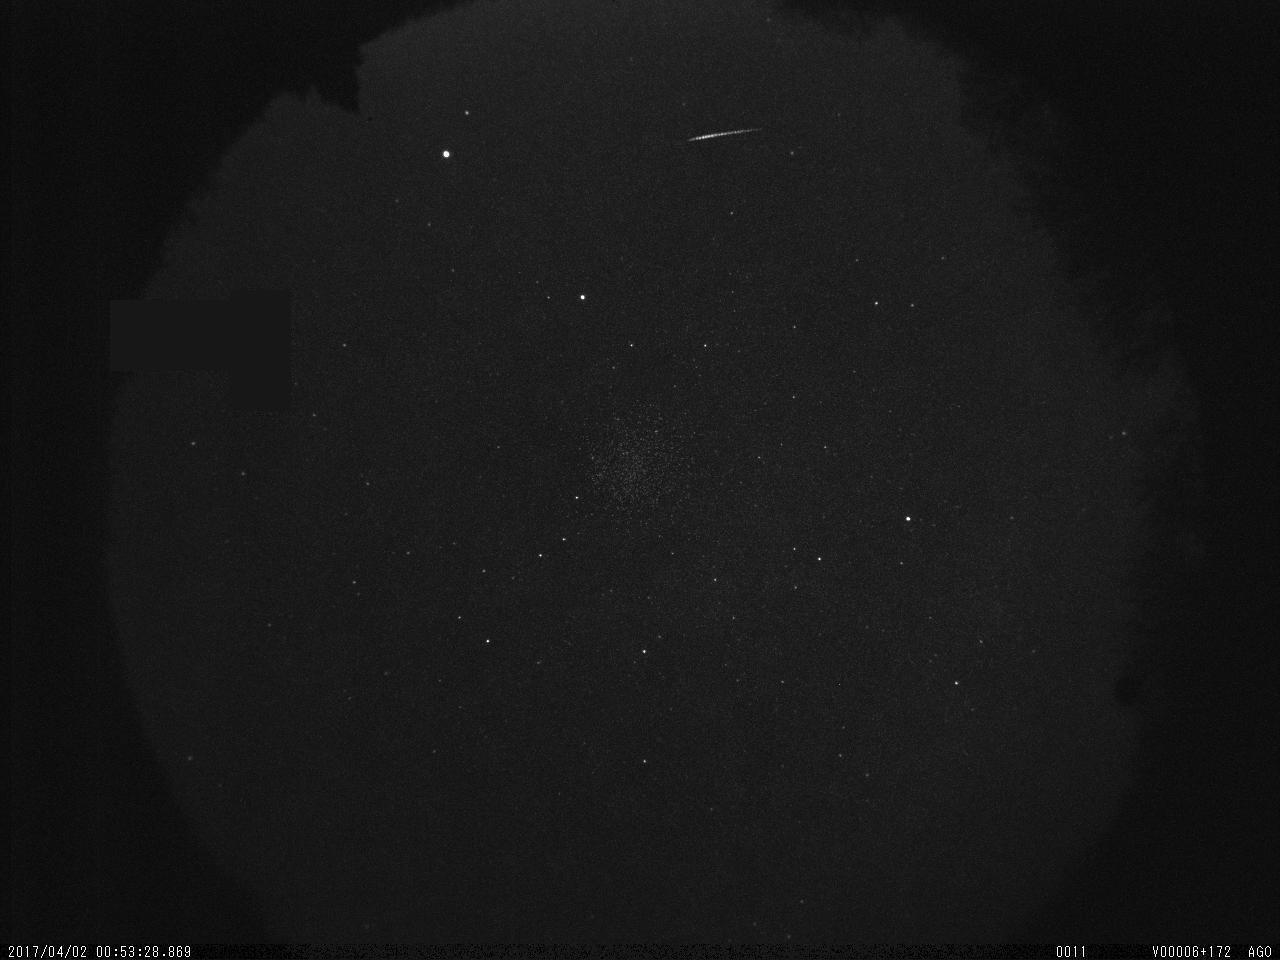Meteor: (684, 122, 758, 144)
